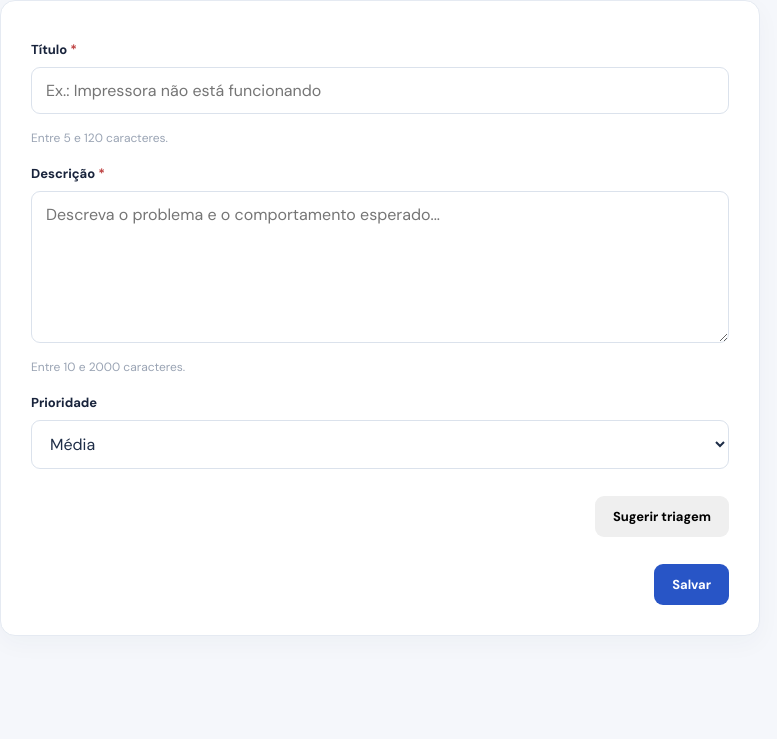
Test case: TicketForm › mostra erro e libera botão se a gravação falhar
Type "Impressora sem papel" into the field labelled "Título *".
click(380, 90); type("Impressora sem papel")  # box x1=31 y1=67 x2=729 y2=114
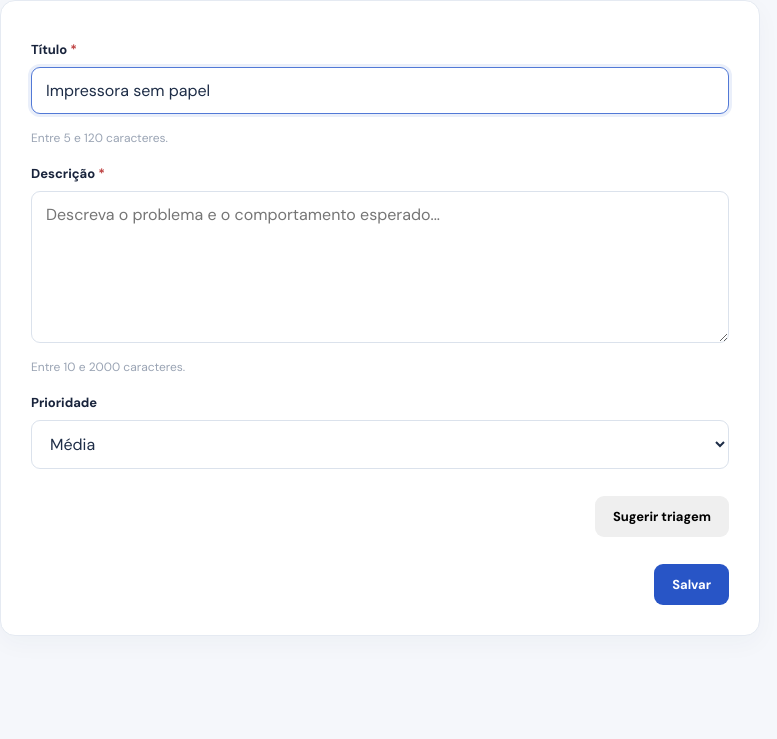
Type "Descrição suficientemente longa" into the text box labelled "Descrição *".
click(380, 267); type("Descrição suficientemente longa")  # box x1=31 y1=191 x2=729 y2=343
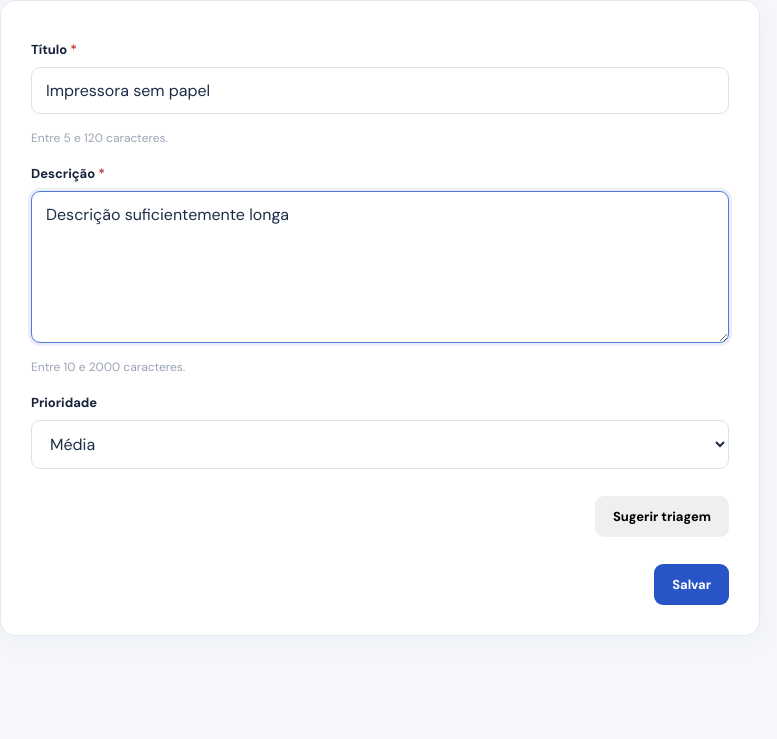
Click the button "Salvar".
click(692, 584)  # box x1=654 y1=564 x2=729 y2=605
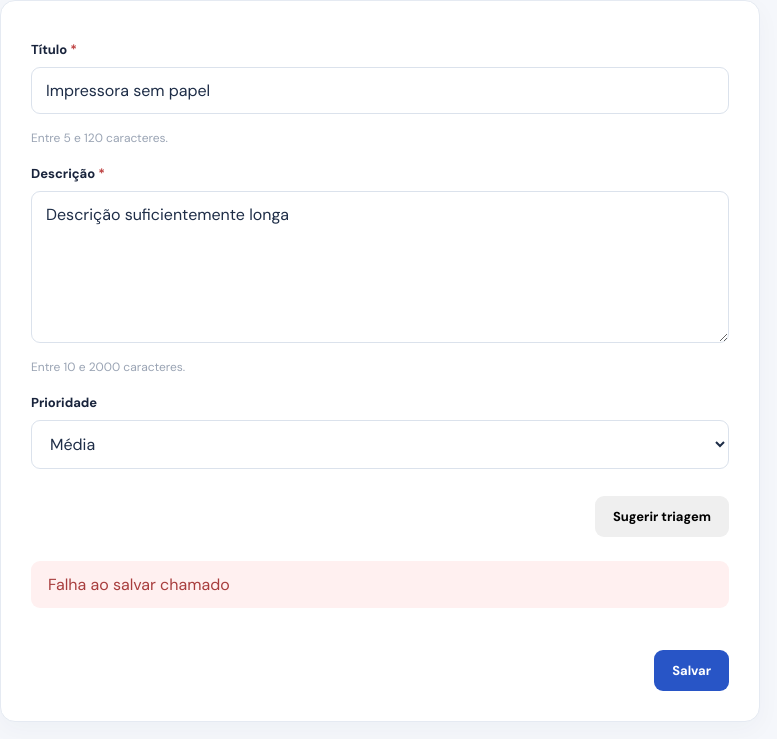
Expected: the button "Salvar" is enabled, x1=654 y1=650 x2=729 y2=691
Now the message reads "Falha ao salvar chamado", box x1=48 y1=574 x2=230 y2=595
